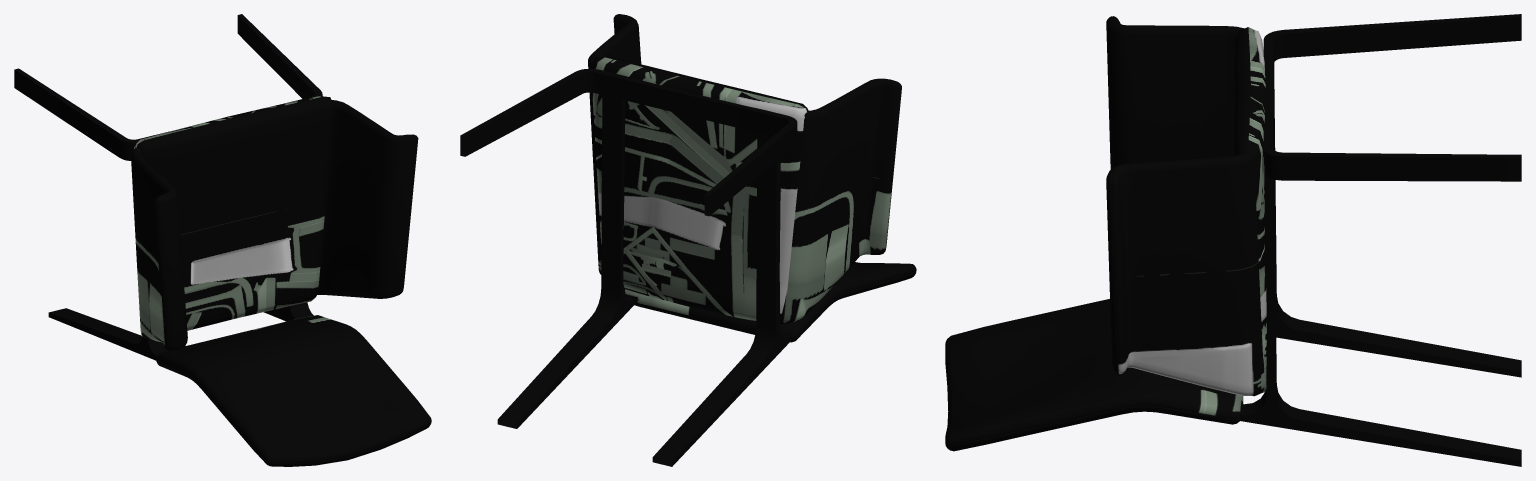
3 views of the same model, side by side, from view 1: azimuth 30°, elevation 25°; view 2: azimuth 150°, elevation 25°; view 3: azimuth 270°, elevation 25° (orthographic). The views are drawn at different scales.
Bounding box in the file's own units: 0.5938 × 0.559 × 0.8718.
